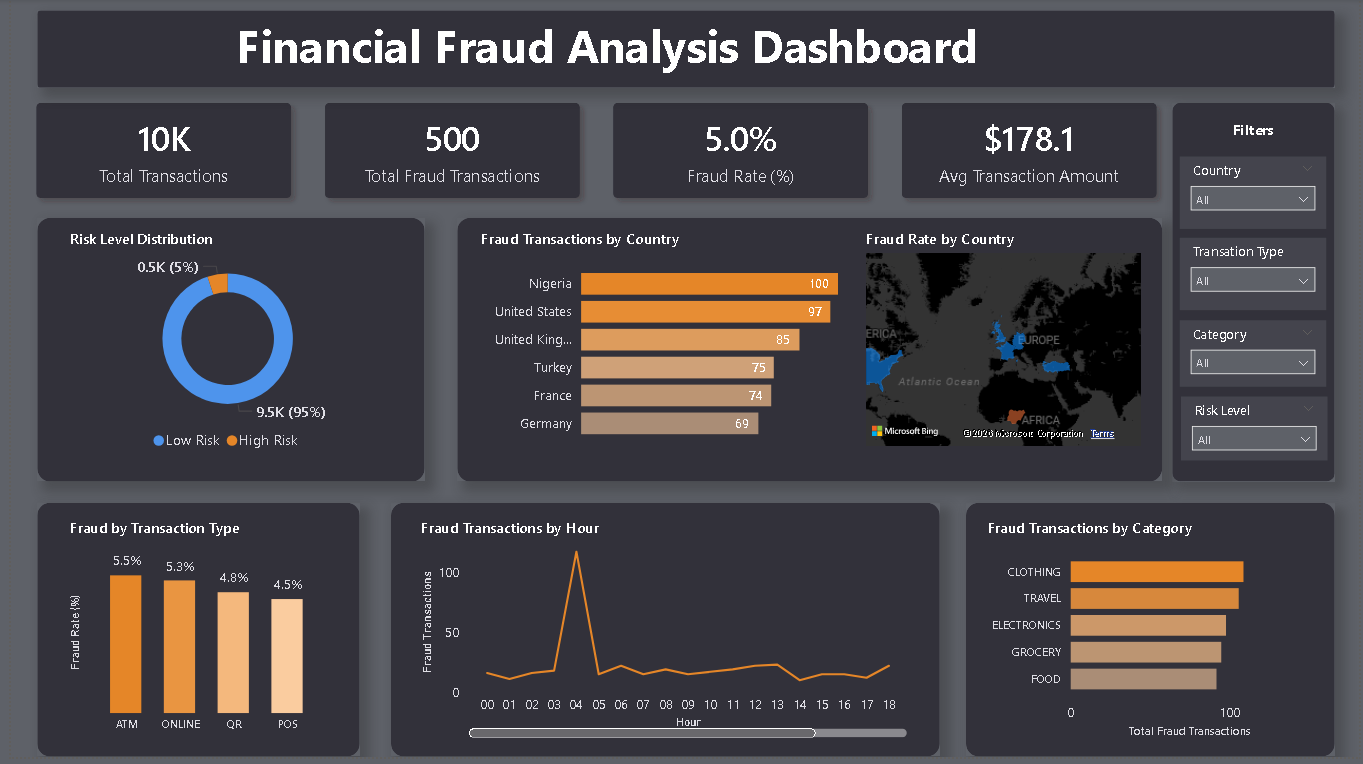

The dashboard page shown, as its layout file describes it:
{"tool":"powerbi","page":{"name":"Page 1","canvas":[1280,720],"ordinal":0},"visuals":[{"type":"card","fields":{"Values":["synthetic_fraud_dataset_cleaned data.Total Transactions"]},"box":[152,277.8,109.2,72.4],"z":0},{"type":"cardVisual","fields":{"Data":["synthetic_fraud_dataset_cleaned data.Total Transactions","synthetic_fraud_dataset_cleaned data.Total Fraud Transactions","synthetic_fraud_dataset_cleaned data.Fraud Rate (%)","synthetic_fraud_dataset_cleaned data.Avg Transaction Amount"]},"box":[0,70.1,1119.7,148.4],"z":1000},{"type":"shape","box":[24.9,207.8,368.1,250.5],"z":2000},{"type":"donutChart","title":" Risk Level Distribution","fields":{"Category":["synthetic_fraud_dataset_cleaned data.risk_level"],"Y":["synthetic_fraud_dataset_cleaned data.Total Transactions"]},"box":[51.1,218.5,309.9,219.7],"z":3000},{"type":"shape","box":[24.9,478.5,306.3,241],"z":4000},{"type":"columnChart","title":"Fraud by Transaction Type ","fields":{"Category":["synthetic_fraud_dataset_cleaned data.transaction_type"],"Y":["synthetic_fraud_dataset_cleaned data.Fraud Rate (%)"]},"box":[51.1,492.8,254.1,213.7],"z":5000},{"type":"shape","box":[423.9,207.8,669.7,250.5],"z":6000},{"type":"clusteredBarChart","title":" Fraud Transactions by Country","fields":{"Category":["synthetic_fraud_dataset_cleaned data.country"],"Y":["synthetic_fraud_dataset_cleaned data.Total Fraud Transactions"]},"box":[441.7,218.5,349.1,211.3],"z":7000},{"type":"filledMap","title":"Fraud Rate by Country","fields":{"Category":["synthetic_fraud_dataset_cleaned data.country"]},"box":[807.4,218.5,270.7,211.3],"z":8000},{"type":"shape","box":[361,478.5,521.2,241],"z":9000},{"type":"lineChart","title":"Fraud Transactions by Hour","fields":{"Y":["synthetic_fraud_dataset_cleaned data.Total Fraud Transactions"],"Category":["synthetic_fraud_dataset_cleaned data.Hour_Display"]},"box":[384.7,492.8,471.4,213.7],"z":10000},{"type":"shape","box":[907.1,478.5,350.3,241],"z":11000},{"type":"clusteredBarChart","title":"Fraud Transactions by Category","fields":{"Category":["synthetic_fraud_dataset_cleaned data.merchant_category"],"Y":["synthetic_fraud_dataset_cleaned data.Total Fraud Transactions"]},"box":[922.6,492.8,324.1,213.7],"z":12000},{"type":"shape","box":[24.9,10.7,1232.5,73.6],"z":13000},{"type":"shape","box":[1103.1,98.6,154.4,359.8],"z":14000},{"type":"textbox","box":[209,10.7,941.6,73.6],"z":15000},{"type":"slicer","title":"Filters","fields":{"Values":["synthetic_fraud_dataset_cleaned data.country"]},"box":[1110.2,149.6,138.9,68.9],"z":16000},{"type":"textbox","box":[218.5,84.3,961.8,9.5],"z":16001},{"type":"textbox","box":[1132.7,110.4,95,34.4],"z":16002},{"type":"slicer","title":"Filters","fields":{"Values":["synthetic_fraud_dataset_cleaned data.transaction_type"]},"box":[1110.2,226.8,138.9,68.9],"z":16003},{"type":"slicer","title":"Filters","fields":{"Values":["synthetic_fraud_dataset_cleaned data.merchant_category"]},"box":[1110.2,305.1,138.9,62.9],"z":16004},{"type":"slicer","title":"Filters","fields":{"Values":["synthetic_fraud_dataset_cleaned data.risk_level"]},"box":[1111.4,377.6,138.9,60.6],"z":16005}]}

Visuals, with their boxes in screenshot pixels (x1, y1, x2, y2), scaled from the page's 1280x720 canvas onto the 1363x764 screenshot:
card - synthetic_fraud_dataset_cleaned data.Total Transactions: 162, 295, 278, 372
cardVisual - synthetic_fraud_dataset_cleaned data.Total Transactions x synthetic_fraud_dataset_cleaned data.Total Fraud Transactions: 0, 74, 1192, 232
shape: 27, 220, 418, 486
" Risk Level Distribution" donutChart: 54, 232, 384, 465
shape: 27, 508, 353, 763
"Fraud by Transaction Type " columnChart: 54, 523, 325, 750
shape: 451, 220, 1165, 486
" Fraud Transactions by Country" clusteredBarChart: 470, 232, 842, 456
"Fraud Rate by Country" filledMap: 860, 232, 1148, 456
shape: 384, 508, 939, 763
"Fraud Transactions by Hour" lineChart: 410, 523, 912, 750
shape: 966, 508, 1339, 763
"Fraud Transactions by Category" clusteredBarChart: 982, 523, 1328, 750
shape: 27, 11, 1339, 89
shape: 1175, 105, 1339, 486
textbox: 223, 11, 1225, 89
"Filters" slicer: 1182, 159, 1330, 232
textbox: 233, 89, 1257, 100
textbox: 1206, 117, 1307, 154
"Filters" slicer: 1182, 241, 1330, 314
"Filters" slicer: 1182, 324, 1330, 390
"Filters" slicer: 1183, 401, 1331, 465
